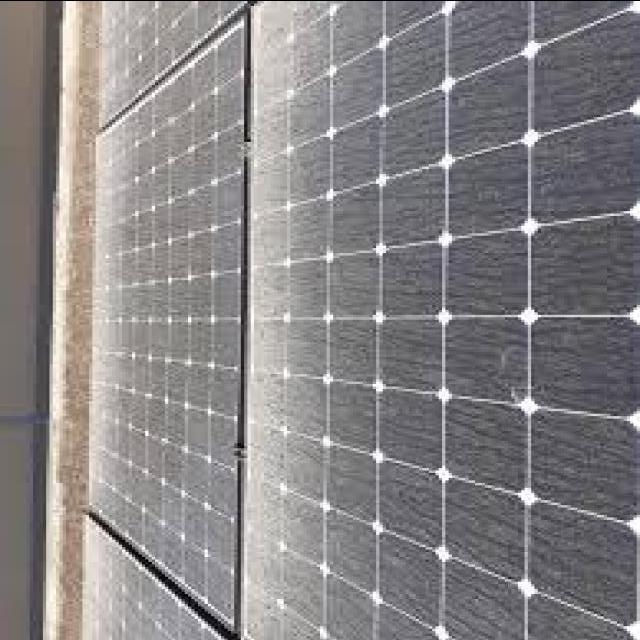soiled: (247, 0, 640, 635), (82, 0, 254, 638)
